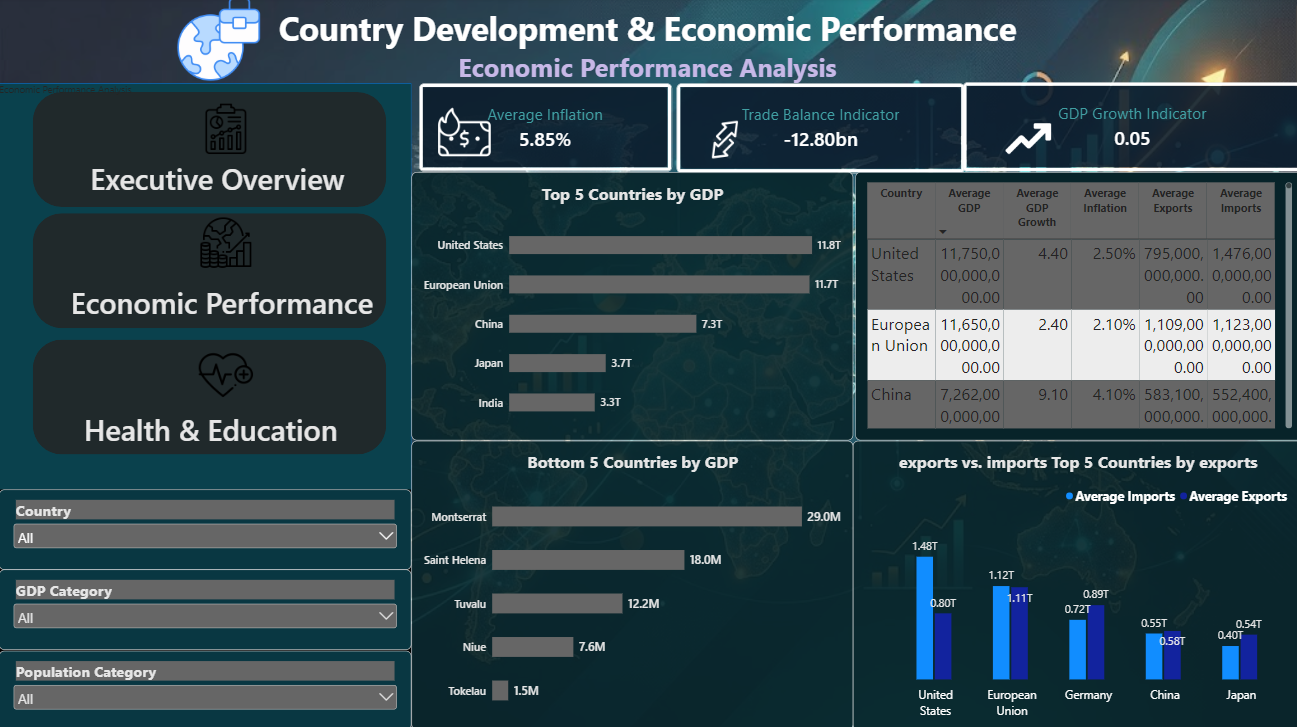

This screenshot's page, from the dashboard's own definition file:
{"tool":"powerbi","page":{"name":"Economic Performance Analysis","canvas":[1920,1080],"ordinal":1},"visuals":[{"type":"cardVisual","fields":{"Data":["DAX.GDP Growth Indicator"]},"box":[1419.5,125,500.5,132.5],"z":0,"group":"g4"},{"type":"shape","box":[0,127.5,607.5,602.5],"z":0,"group":"g1"},{"type":"cardVisual","fields":{"Data":["DAX.Average Inflation"]},"box":[618.8,127.5,372.5,130],"z":0,"group":"g3"},{"type":"cardVisual","fields":{"Data":["DAX.Trade Balance Indicator"]},"box":[996.3,127.5,425,132.5],"z":0,"group":"g2"},{"type":"slicer","fields":{"Values":["countries.Country"]},"box":[0,725,607.5,118.4],"z":0,"group":"g5"},{"type":"group","id":"g1","title":"Group 1","box":[0,127.5,607.5,602.5],"z":1000},{"type":"shape","box":[49.9,139.8,520.5,169.3],"z":1000,"group":"g1"},{"type":"image","box":[631.9,161.3,107.5,77.5],"z":1000,"group":"g3"},{"type":"image","box":[976.6,171.3,182.5,77.5],"z":1000,"group":"g2"},{"type":"image","box":[1380,175,270,67.5],"z":1000,"group":"g4"},{"type":"slicer","fields":{"Values":["countries.Population Category"]},"box":[0,961.7,607.5,118.4],"z":1000,"group":"g5"},{"type":"textbox","box":[0,12.9,1917.8,139.9],"z":2000},{"type":"textbox","box":[133.7,238.7,396.4,75],"z":2000,"group":"g1"},{"type":"slicer","fields":{"Values":["countries.GDP Category"]},"box":[0,843.4,607.5,118.4],"z":2000,"group":"g5"},{"type":"group","id":"g2","title":"Group 2","box":[976.6,127.5,444.7,132.5],"z":3000},{"type":"shape","box":[49.9,319,520.5,169.3],"z":3000,"group":"g1"},{"type":"group","id":"g3","title":"Group 3","box":[618.8,127.5,372.5,130],"z":4000},{"type":"shape","box":[49.9,504.4,520.5,169.3],"z":4000,"group":"g1"},{"type":"group","id":"g4","title":"Group 2","box":[1380,125,540,132.5],"z":5000},{"type":"image","title":"Economic Performance Analysis","box":[229.9,154.8,207.7,79.6],"z":5000,"group":"g1"},{"type":"image","title":"Economic Performance Analysis","box":[229.9,518.2,207.7,79.6],"z":6000,"group":"g1"},{"type":"textbox","box":[102.8,419.3,461.8,74.1],"z":7000,"group":"g1"},{"type":"clusteredColumnChart","title":"exports vs. imports Top 5 Countries by exports","fields":{"Category":["countries.Country"],"Y":["DAX.Average Imports","DAX.Average Exports"]},"box":[1257.5,652.5,662.5,427.5],"z":7000},{"type":"tableEx","fields":{"Values":["countries.Country","DAX.Average GDP","DAX.Average GDP Growth","DAX.Average Inflation","DAX.Average Exports","DAX.Average Imports"]},"box":[1260,257.5,660,395],"z":8000},{"type":"image","title":"Economic Performance Analysis","box":[229.9,323.5,207.7,79.6],"z":8000,"group":"g1"},{"type":"textbox","box":[124.3,608.7,417.5,87.5],"z":9000,"group":"g1"},{"type":"group","id":"g5","title":"Group 4","box":[0,725,607.5,355],"z":9000},{"type":"clusteredBarChart","title":"Top 5 Countries by GDP","fields":{"Category":["countries.Country"],"Y":["DAX.Average GDP"]},"box":[607.5,257.5,650,395],"z":10000},{"type":"clusteredBarChart","title":"Bottom 5 Countries by GDP","fields":{"Category":["countries.Country"],"Y":["DAX.Average GDP"]},"box":[607.5,652.5,650,427.5],"z":11000},{"type":"image","box":[210,0,227.5,125],"z":12000}]}

Visuals, with their boxes in screenshot pixels (x1, y1, x2, y2), scaled from the page's 1920x1080 canvas onto the 1297x727 screenshot:
cardVisual - DAX.GDP Growth Indicator: (959,84,1296,173)
shape: (0,86,410,491)
cardVisual - DAX.Average Inflation: (418,86,670,173)
cardVisual - DAX.Trade Balance Indicator: (673,86,960,175)
slicer - countries.Country: (0,488,410,568)
"Group 1" group: (0,86,410,491)
shape: (34,94,385,208)
image: (427,109,499,161)
image: (660,115,783,167)
image: (932,118,1115,163)
slicer - countries.Population Category: (0,647,410,726)
textbox: (0,9,1296,103)
textbox: (90,161,358,211)
slicer - countries.GDP Category: (0,568,410,647)
"Group 2" group: (660,86,960,175)
shape: (34,215,385,329)
"Group 3" group: (418,86,670,173)
shape: (34,340,385,453)
"Group 2" group: (932,84,1296,173)
"Economic Performance Analysis" image: (155,104,296,158)
"Economic Performance Analysis" image: (155,349,296,402)
textbox: (69,282,381,332)
"exports vs. imports Top 5 Countries by exports" clusteredColumnChart: (849,439,1296,726)
tableEx - countries.Country x DAX.Average GDP: (851,173,1296,439)
"Economic Performance Analysis" image: (155,218,296,271)
textbox: (84,410,366,469)
"Group 4" group: (0,488,410,726)
"Top 5 Countries by GDP" clusteredBarChart: (410,173,849,439)
"Bottom 5 Countries by GDP" clusteredBarChart: (410,439,849,726)
image: (142,0,296,84)
